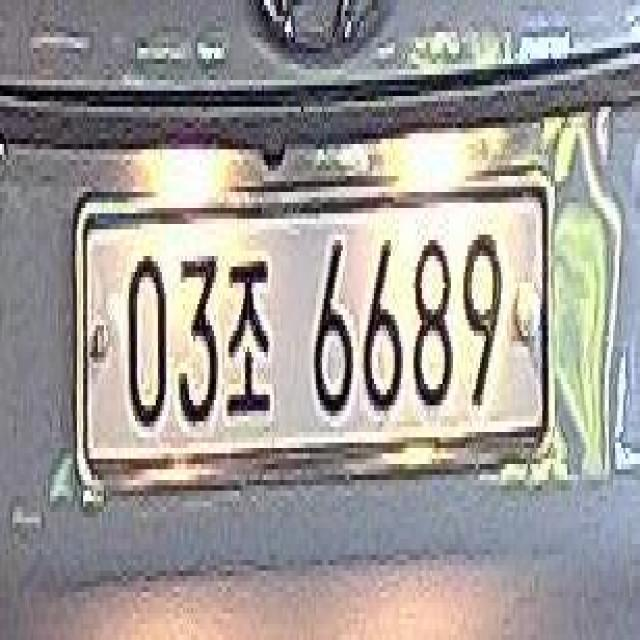illegal_plate: (74, 176, 549, 498)
